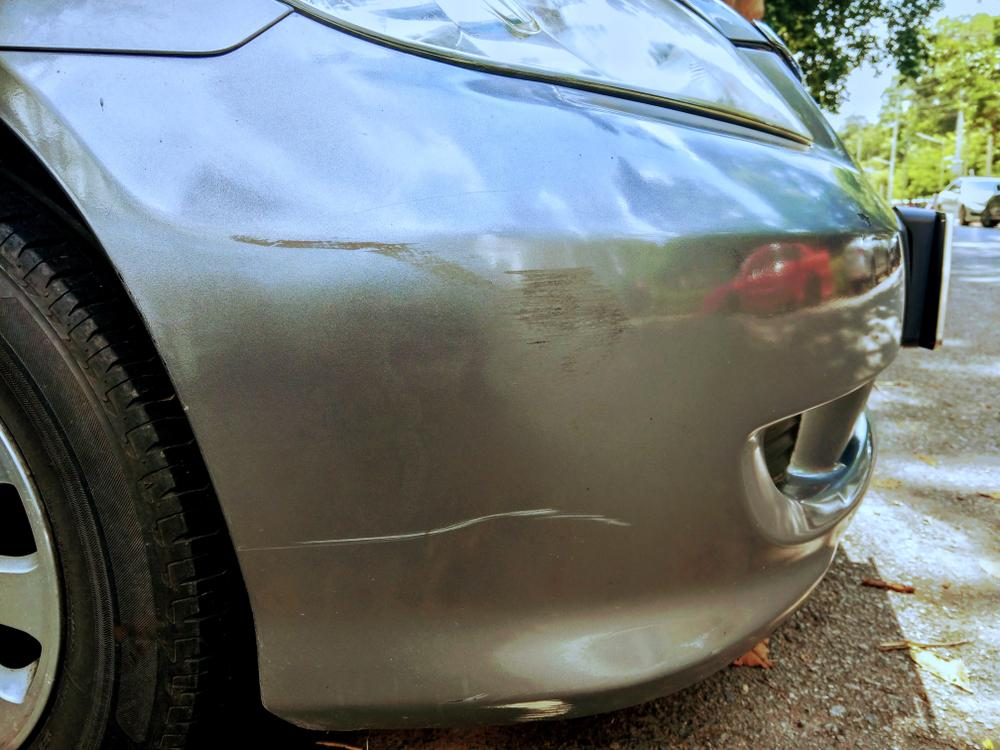scratch: (226, 231, 634, 370), (257, 502, 645, 552)
